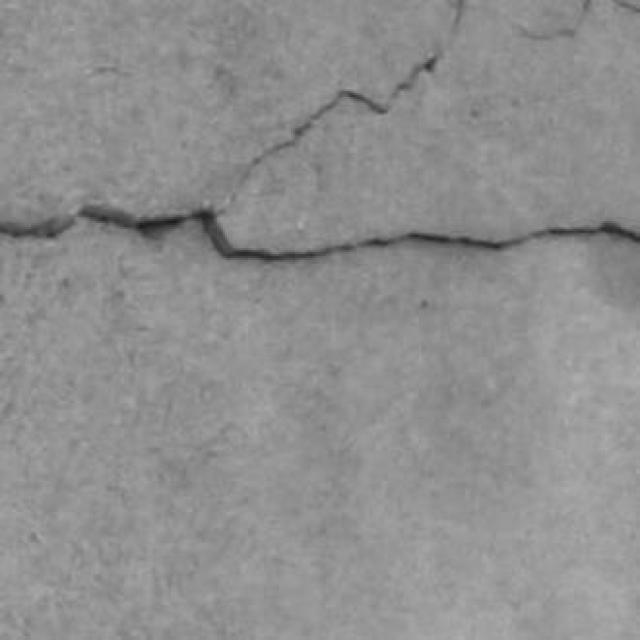crack: (0, 206, 639, 263), (220, 53, 440, 215), (198, 212, 639, 261), (516, 0, 591, 40), (613, 0, 639, 13)
